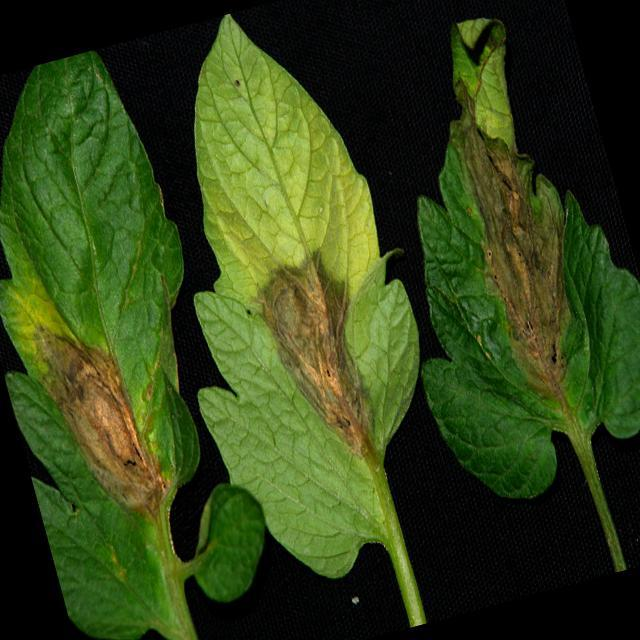Tomato mold leaf: (103, 0, 476, 602), (0, 40, 278, 640), (353, 68, 640, 516)
